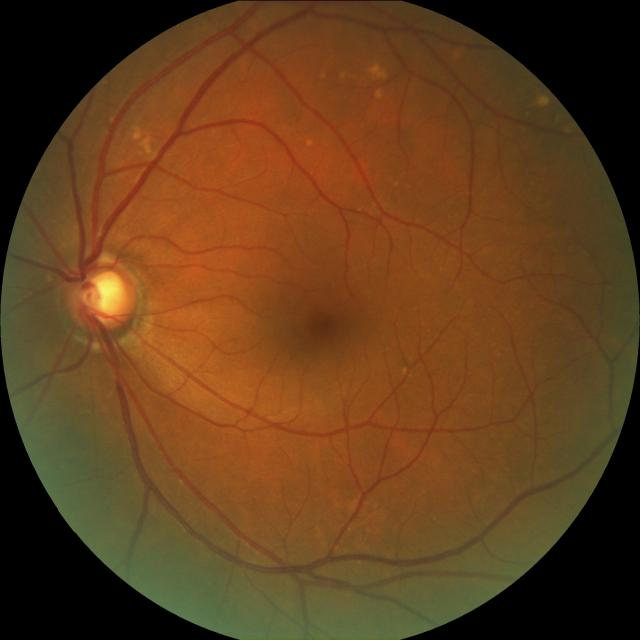OC: (80, 266, 130, 321)
OD: (66, 252, 142, 332)
